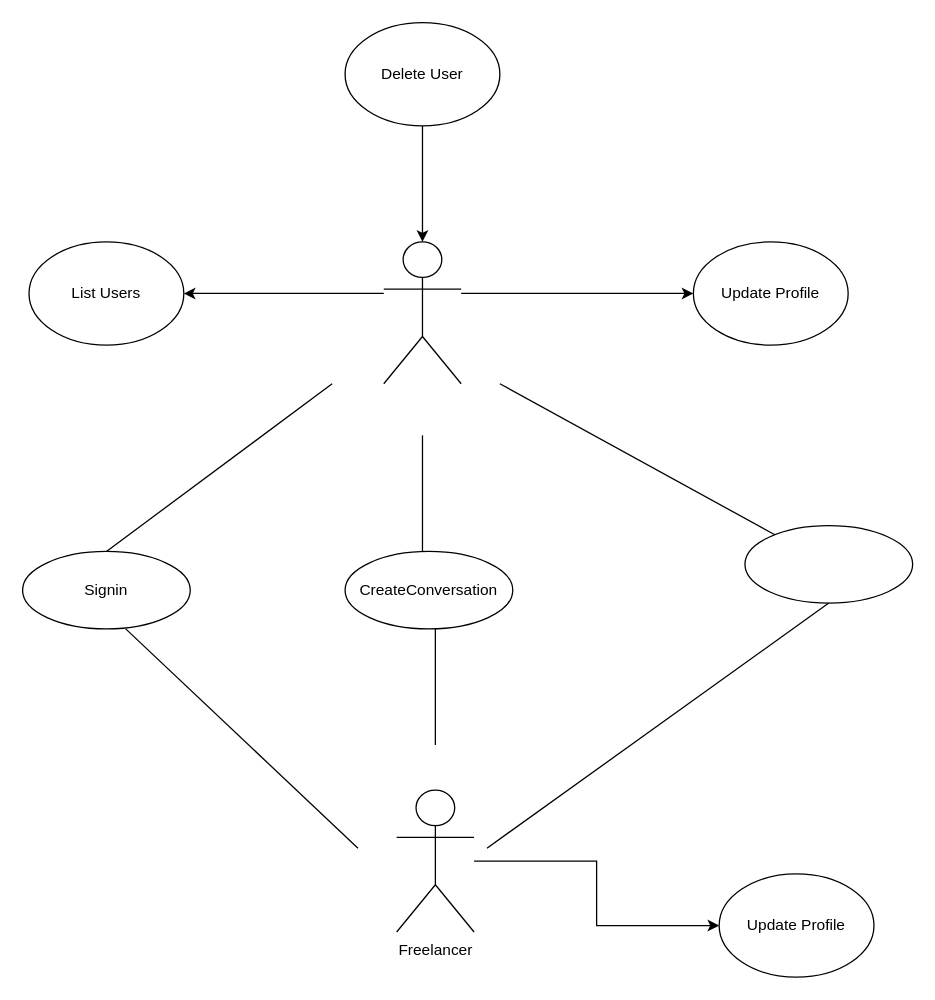
The diagram is 935 pixels wide and 1000 high, and some of its shapes have lost their labels. Here are the shapes that lost their labels. From the top down, the centre of each, then its label:
At point 421,312: "User".
At point 828,563: "Register".
